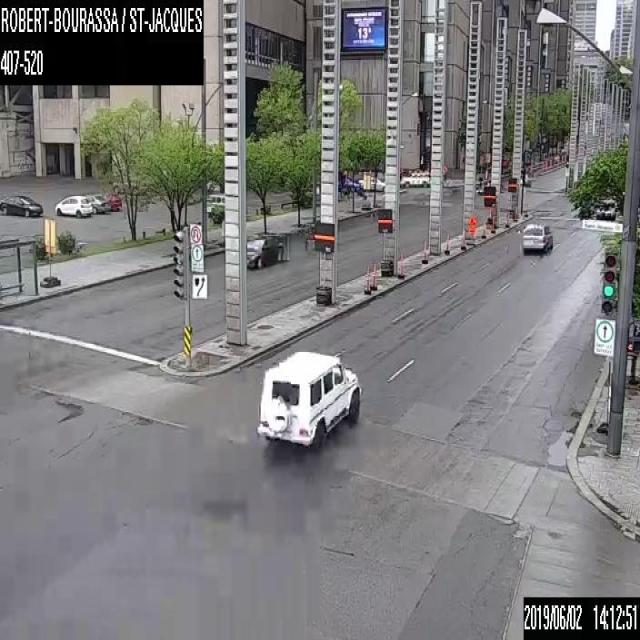construction: (467, 214, 476, 243), (399, 255, 404, 276), (460, 230, 464, 246), (365, 268, 368, 289), (372, 266, 375, 286), (505, 209, 509, 224), (423, 240, 426, 259), (482, 219, 485, 236), (491, 214, 494, 230), (445, 236, 448, 251)
vehicle: (254, 348, 362, 453), (245, 232, 283, 269), (521, 221, 553, 251), (0, 194, 43, 215), (54, 194, 92, 217), (83, 193, 111, 213), (399, 171, 428, 185), (357, 175, 384, 190), (101, 193, 121, 210), (304, 227, 314, 249)
